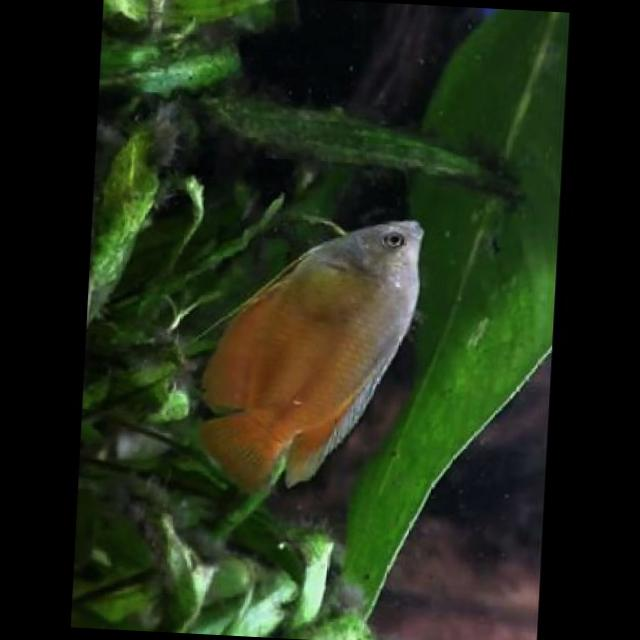Gourami: (188, 206, 432, 504)
